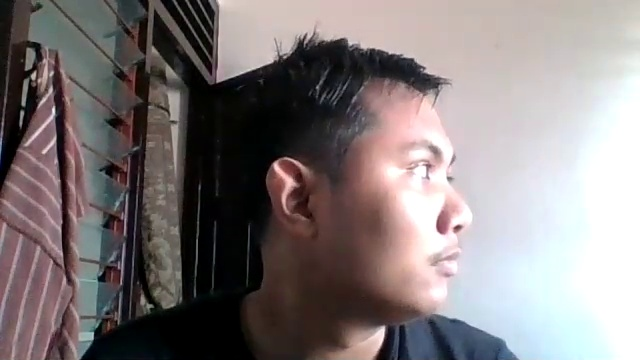Distracted: (222, 54, 478, 326)
